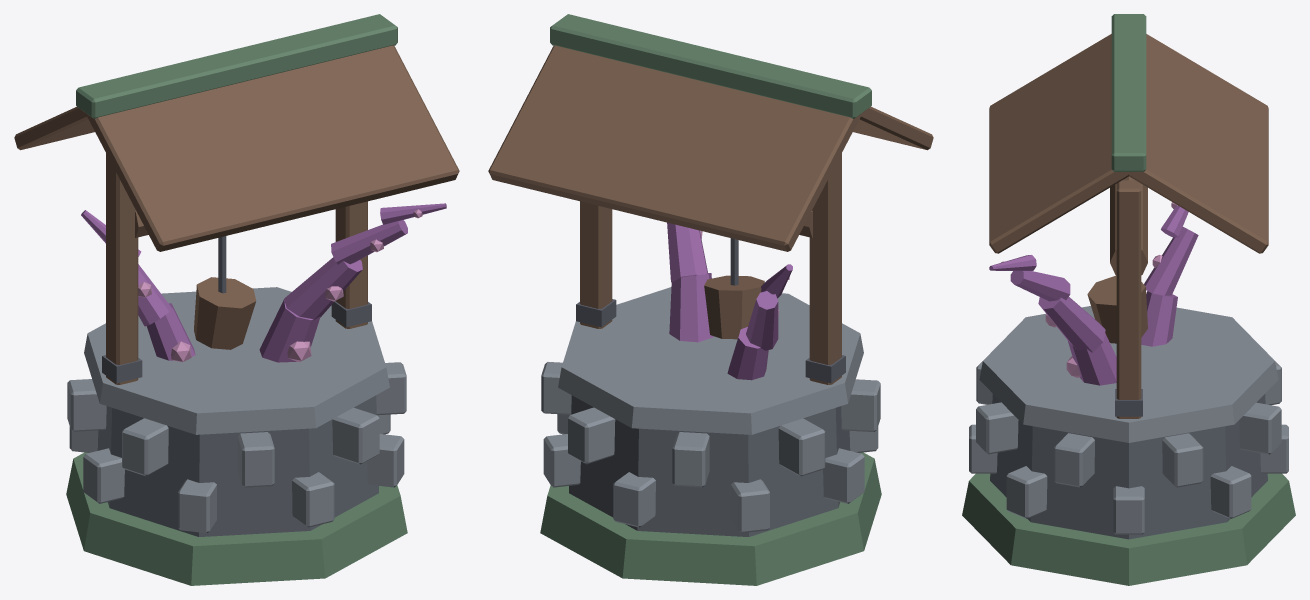
The model's file is outdoor_well.glb.
3 views of the same model, side by side, from view 1: azimuth 30°, elevation 25°; view 2: azimuth 150°, elevation 25°; view 3: azimuth 270°, elevation 25° (orthographic). The views are drawn at different scales.
Visible parts, largest first — view 1: Outdoor_Well; view 2: Outdoor_Well; view 3: Outdoor_Well.
Part boxes in pixels (x1=…): Outdoor_Well: x1=14, y1=14, x2=459, y2=585; Outdoor_Well: x1=488, y1=14, x2=933, y2=585; Outdoor_Well: x1=962, y1=14, x2=1295, y2=585.
Bounding box in the file's own units: 1.92 × 2.74 × 1.92.
